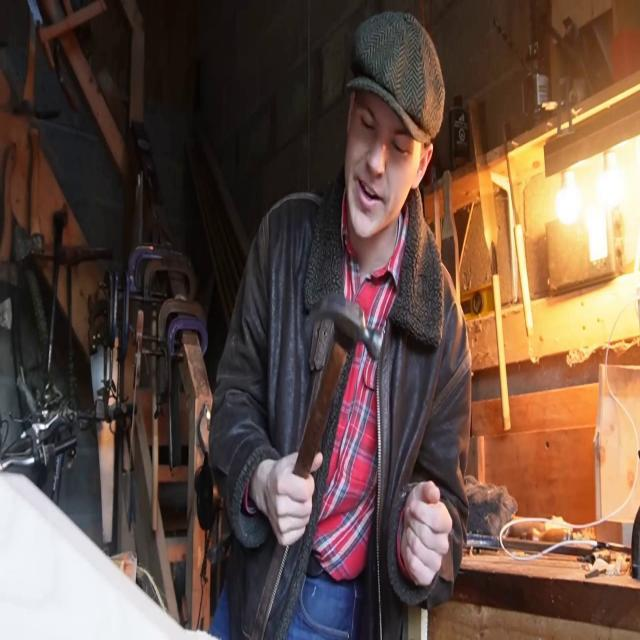hammer: (294, 292, 384, 479)
